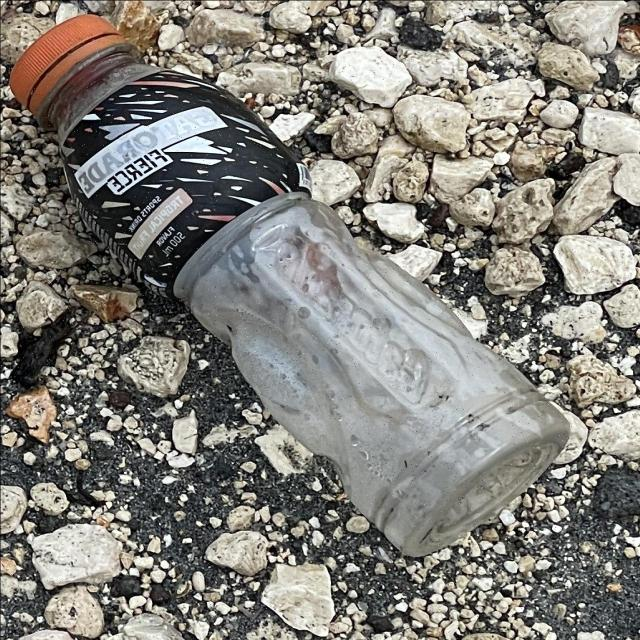plastic_waste: (11, 16, 571, 563)
